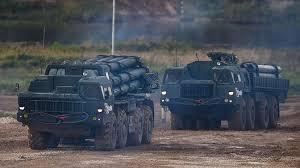MIL_SAM_TEL: (13, 53, 158, 148)
